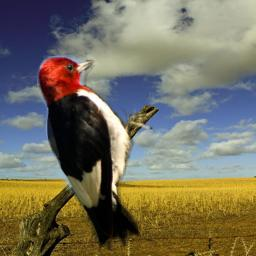Woodpecker: (36, 55, 156, 253)
